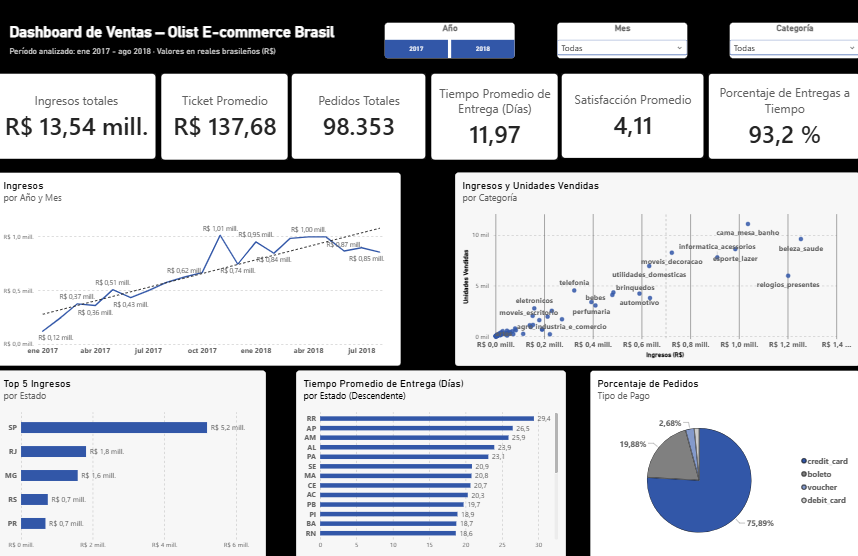

The dashboard page shown, as its layout file describes it:
{"tool":"powerbi","page":{"name":"KPIs","canvas":[1920,1250],"ordinal":0},"visuals":[{"type":"barChart","fields":{"Category":["brazilian_ecommerce tabla_analitica.customer_state"],"Y":["Medidas.ventas totales"]},"box":[0,830,600,420],"z":0},{"type":"cardVisual","fields":{"Data":["Medidas.ventas totales"]},"box":[0.8,170,355,190],"z":1000},{"type":"cardVisual","fields":{"Data":["Medidas.Pedidos Totales"]},"box":[657.6,170,298,190],"z":2000},{"type":"barChart","title":"Tiempo Promedio de Entrega (Días)","fields":{"Category":["brazilian_ecommerce tabla_analitica.customer_state"],"Y":["Medidas.Tiempo Promedio de Entrega"]},"box":[665.8,830,600,420],"z":3000},{"type":"cardVisual","fields":{"Data":["Medidas.Ticket Promedio"]},"box":[365.7,170,282,192],"z":4000},{"type":"cardVisual","fields":{"Data":["Medidas.Tiempo Promedio de Entrega"]},"box":[965.5,170,282,192],"z":5000},{"type":"lineChart","fields":{"Category":["brazilian_ecommerce tabla_analitica.order_purchase_timestamp.Variación.Jerarquía de fechas.Año","brazilian_ecommerce tabla_analitica.order_purchase_timestamp.Variación.Jerarquía de fechas.Mes"],"Y":["Medidas.Ingresos Totales"]},"box":[0,390,900,430],"z":6000},{"type":"cardVisual","fields":{"Data":["Medidas.Satisfaccion Promedio"]},"box":[1257.4,170,316,188],"z":7000},{"type":"scatterChart","title":"Ingresos y Unidades Vendidas","fields":{"Category":["brazilian_ecommerce tabla_analitica.product_category_name"],"X":["Medidas.ventas totales"],"Y":["Medidas.Cantidad Items"]},"box":[1020,390,900,430],"z":8000},{"type":"pieChart","title":"Porcentaje de Pedidos por Tipo de Pago","fields":{"Category":["brazilian_ecommerce tabla_analitica.tipo_pago_principal"],"Y":["Medidas.Pedidos Totales"]},"box":[1320,830,600,420],"z":9000},{"type":"cardVisual","fields":{"Data":["Medidas.porcentaje de entregas a tiempo"]},"box":[1583.3,170,337.5,190],"z":10000},{"type":"textbox","title":"Dashboard de Ventas – Olist E-commerce Brasil","box":[28.3,55,740,44],"z":11000},{"type":"advancedSlicerVisual","fields":{"Values":["brazilian_ecommerce tabla_analitica.order_purchase_timestamp.Variación.Jerarquía de fechas.Año"]},"box":[864.3,56.4,290,80],"z":12000,"group":"g1"},{"type":"textbox","title":"Período analizado: ene 2017 - ago 2018 · Valores en reales brasileños (R$)","box":[28.3,110,720,26],"z":12000},{"type":"group","id":"g1","title":"Grupo 1","box":[864.3,55.7,1055.7,80],"z":13000},{"type":"listSlicer","fields":{"Values":["brazilian_ecommerce tabla_analitica.nombre_mes"]},"box":[1247.2,56.4,290,80],"z":13000,"group":"g1"},{"type":"listSlicer","title":"Categoría","fields":{"Values":["brazilian_ecommerce tabla_analitica.product_category_name"]},"box":[1630,55.7,290,80],"z":14000,"group":"g1"}]}

Visuals, with their boxes in screenshot pixels (x1, y1, x2, y2), scaled from the page's 1920x1250 canvas onto the 858x556 screenshot:
barChart - brazilian_ecommerce tabla_analitica.customer_state x Medidas.ventas totales: 0 369 268 555
cardVisual - Medidas.ventas totales: 0 76 159 160
cardVisual - Medidas.Pedidos Totales: 294 76 427 160
"Tiempo Promedio de Entrega (Días)" barChart: 298 369 566 555
cardVisual - Medidas.Ticket Promedio: 163 76 289 161
cardVisual - Medidas.Tiempo Promedio de Entrega: 431 76 557 161
lineChart - brazilian_ecommerce tabla_analitica.order_purchase_timestamp.Variación.Jerarquía de fechas.Año x brazilian_ecommerce tabla_analitica.order_purchase_timestamp.Variación.Jerarquía de fechas.Mes: 0 173 402 365
cardVisual - Medidas.Satisfaccion Promedio: 562 76 703 159
"Ingresos y Unidades Vendidas" scatterChart: 456 173 857 365
"Porcentaje de Pedidos por Tipo de Pago" pieChart: 590 369 857 555
cardVisual - Medidas.porcentaje de entregas a tiempo: 708 76 857 160
"Dashboard de Ventas – Olist E-commerce Brasil" textbox: 13 24 343 44
advancedSlicerVisual - brazilian_ecommerce tabla_analitica.order_purchase_timestamp.Variación.Jerarquía de fechas.Año: 386 25 516 61
"Período analizado: ene 2017 - ago 2018 · Valores en reales brasileños (R$)" textbox: 13 49 334 60
"Grupo 1" group: 386 25 857 60
listSlicer - brazilian_ecommerce tabla_analitica.nombre_mes: 557 25 687 61
"Categoría" listSlicer: 728 25 857 60
